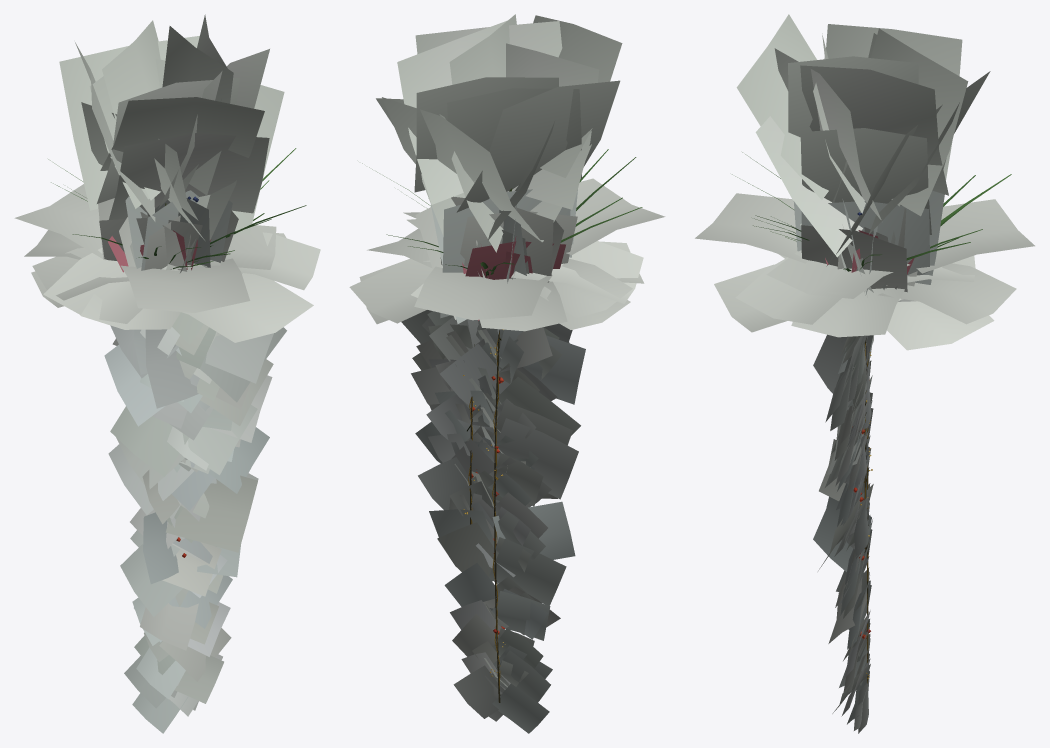
File: hw_plants.glb
3 renders of one model, left to right at view 1: azimuth 30°, elevation 25°; view 2: azimuth 150°, elevation 25°; view 3: azimuth 270°, elevation 25°, orthographic. The views are drawn at different scales.
Parts seen in each view (by area): view 1: herb_4, strand_2, herb_5, strand_0, strand_1, herb_1, herb_6, strand_3, herb_2, herb_7; view 2: herb_4, strand_0, herb_5, strand_2, strand_3, strand_1, herb_1, herb_6, herb_7, herb_2; view 3: herb_4, herb_5, strand_0, strand_2, herb_6, herb_1, strand_1, strand_3, herb_2.
Boxes of the visible parts, x1,y1,x2,y2 form: herb_4: [59, 14, 284, 240]; strand_2: [104, 325, 273, 703]; herb_5: [14, 184, 320, 342]; strand_0: [108, 327, 286, 710]; strand_1: [132, 312, 240, 733]; herb_1: [98, 198, 238, 271]; herb_6: [125, 190, 232, 270]; strand_3: [134, 324, 227, 716]; herb_2: [48, 148, 306, 269]; herb_7: [108, 230, 211, 272]; herb_4: [376, 14, 622, 252]; strand_0: [401, 310, 580, 718]; herb_5: [349, 178, 665, 331]; strand_2: [411, 322, 585, 702]; strand_3: [426, 311, 562, 721]; strand_1: [422, 317, 559, 733]; herb_1: [415, 196, 577, 319]; herb_6: [431, 189, 577, 323]; herb_7: [462, 236, 565, 320]; herb_2: [362, 149, 642, 276]; herb_4: [736, 14, 990, 266]; herb_5: [695, 193, 1034, 350]; strand_0: [813, 334, 873, 733]; strand_2: [818, 335, 873, 713]; herb_6: [793, 190, 944, 295]; herb_1: [801, 208, 917, 292]; strand_1: [819, 343, 872, 724]; strand_3: [838, 336, 870, 730]; herb_2: [732, 152, 1011, 271].
Size of the model in its own units: 1.36 by 3.4 by 1.53.
